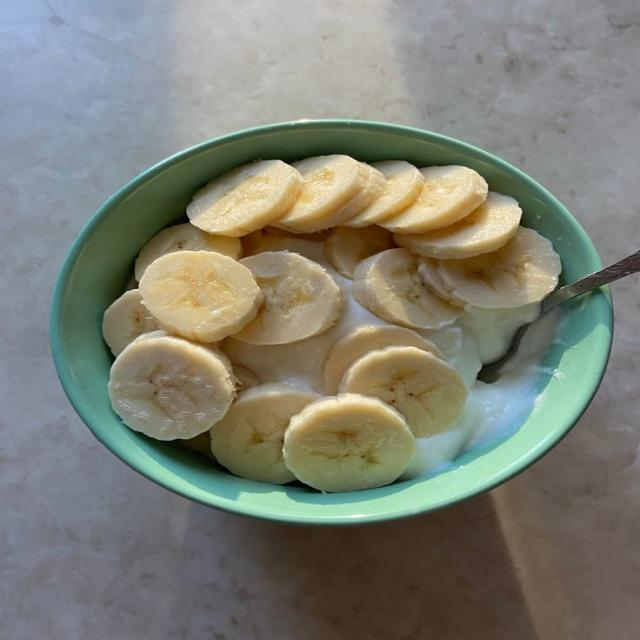banana slice: (109, 335, 235, 440), (284, 394, 416, 491), (340, 347, 467, 437), (140, 252, 262, 342), (211, 383, 318, 484), (234, 252, 342, 345), (438, 228, 561, 308), (187, 160, 302, 236), (394, 192, 521, 259), (354, 249, 460, 328), (323, 325, 443, 394), (275, 155, 371, 232), (380, 166, 487, 233), (135, 224, 242, 281), (345, 161, 424, 227), (102, 289, 158, 356), (325, 226, 393, 278), (334, 165, 385, 225), (418, 258, 466, 307), (246, 234, 326, 262), (264, 227, 329, 241), (179, 431, 213, 457), (234, 365, 260, 389), (240, 229, 264, 255)
